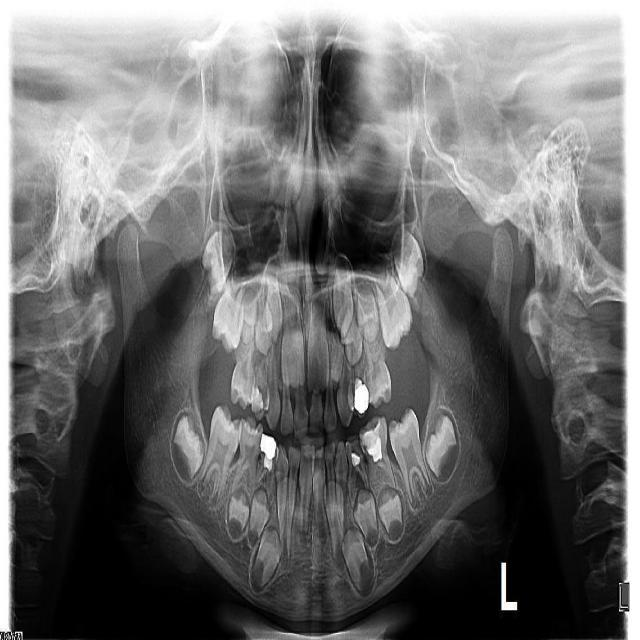NucleOSS Implant: (258, 430, 278, 459), (354, 379, 369, 414)
